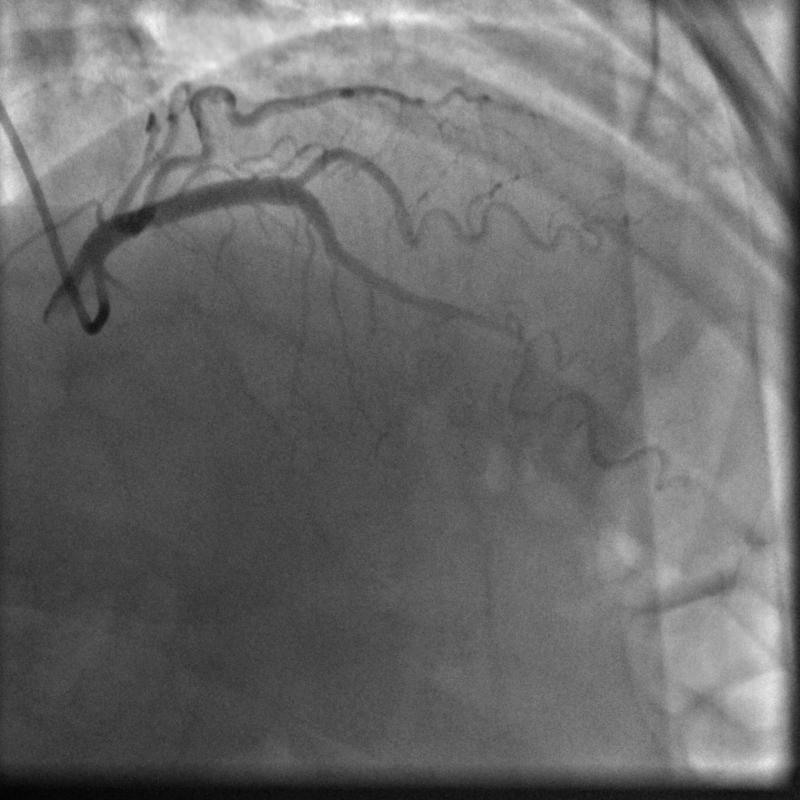Stenosis: (472, 305, 528, 354)
